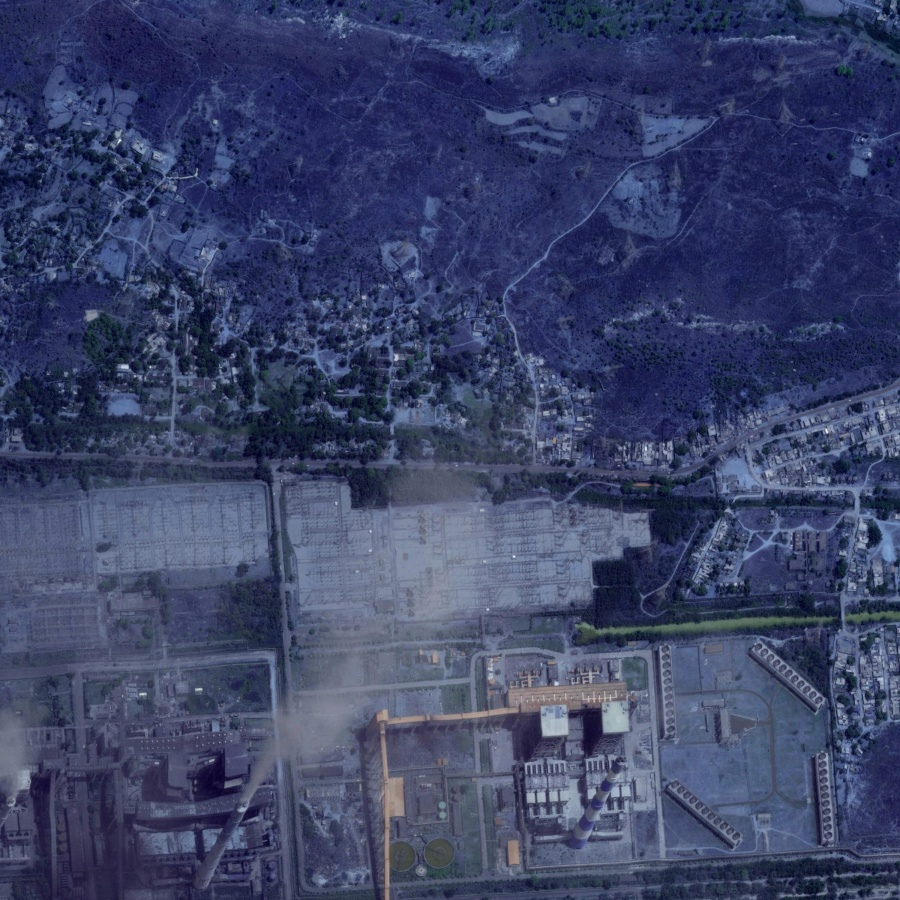PowerPlant: (517, 683, 641, 863)
